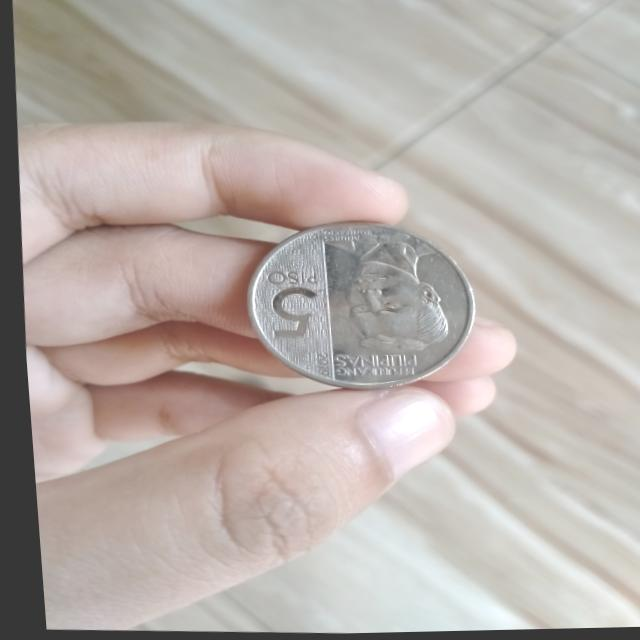5_New_Front: (249, 259, 336, 351)
